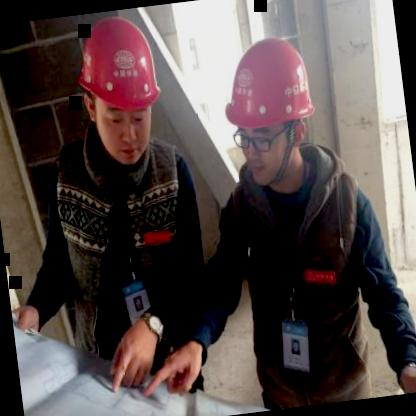helmet: (209, 17, 330, 193), (62, 6, 172, 172)
